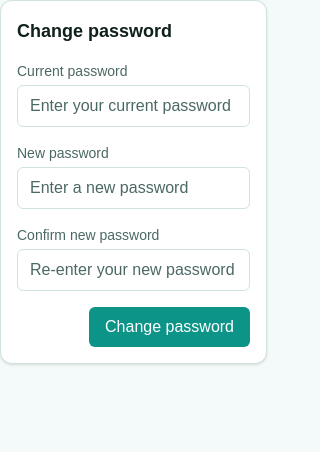
it: ChangePasswordForm › submits the entered passwords and shows a success message
The image size is (320, 452).
In the password field labelled "Current password": (134, 106) x1=17 y1=85 x2=250 y2=127, type "Current1!"
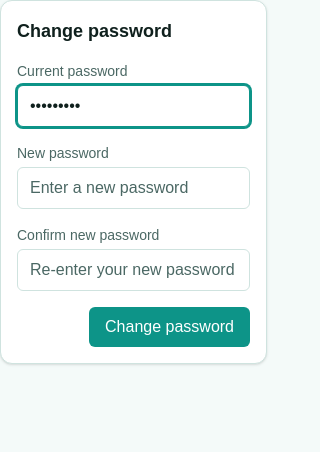
In the password field labelled "New password": (134, 188) x1=17 y1=167 x2=250 y2=209, type "Newpass1!"
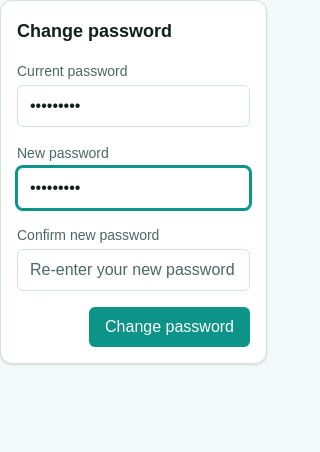
In the password field labelled "Confirm new password": (134, 270) x1=17 y1=249 x2=250 y2=291, type "Newpass1!"
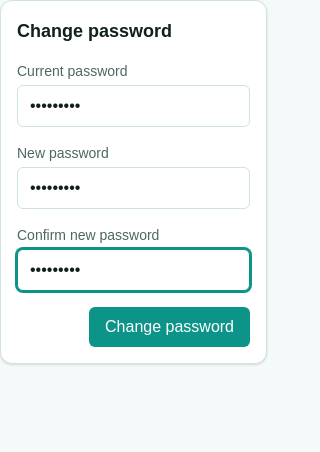
Click the button "Change password": (170, 327) x1=89 y1=307 x2=250 y2=347
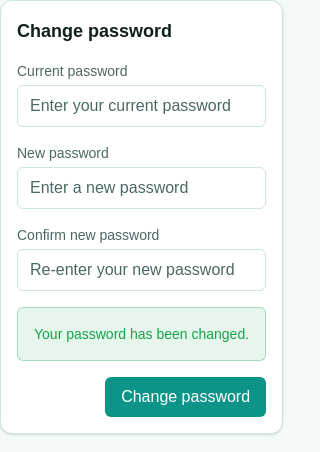
Expected: the text "Your password has been changed." is shown, x1=34 y1=324 x2=249 y2=344
Expected: the password field labelled "Current password" is empty, x1=17 y1=85 x2=266 y2=127
Expected: the password field labelled "New password" is empty, x1=17 y1=167 x2=266 y2=209
